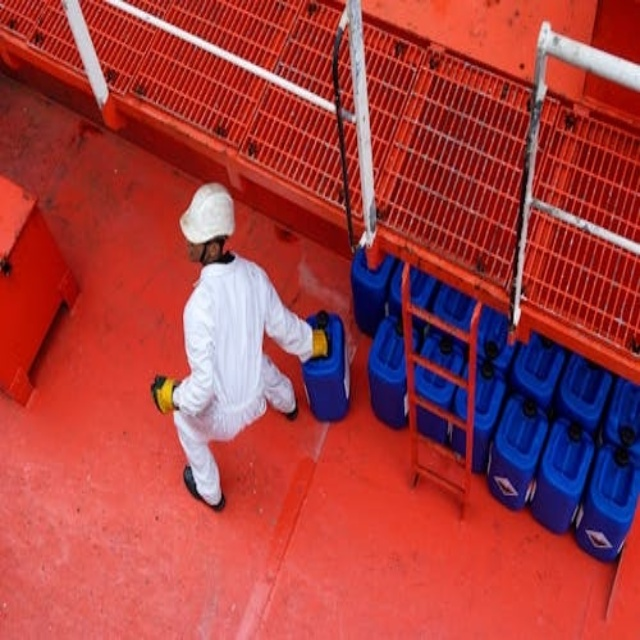Guantes: (147, 370, 177, 418)
